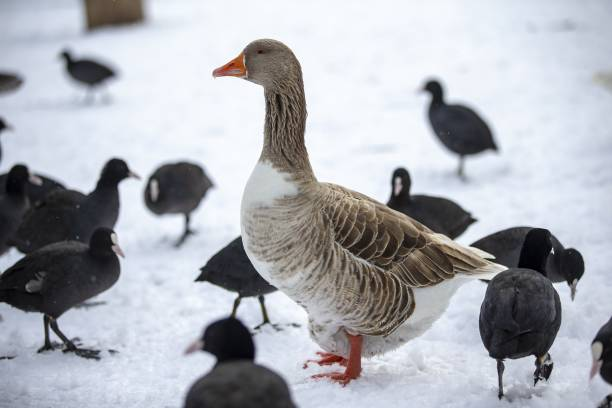goose: (203, 31, 494, 387)
